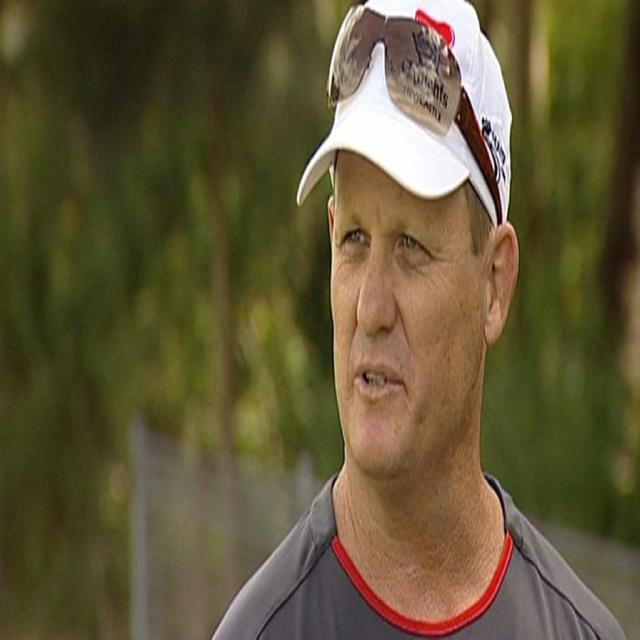Face: (324, 123, 492, 470)
